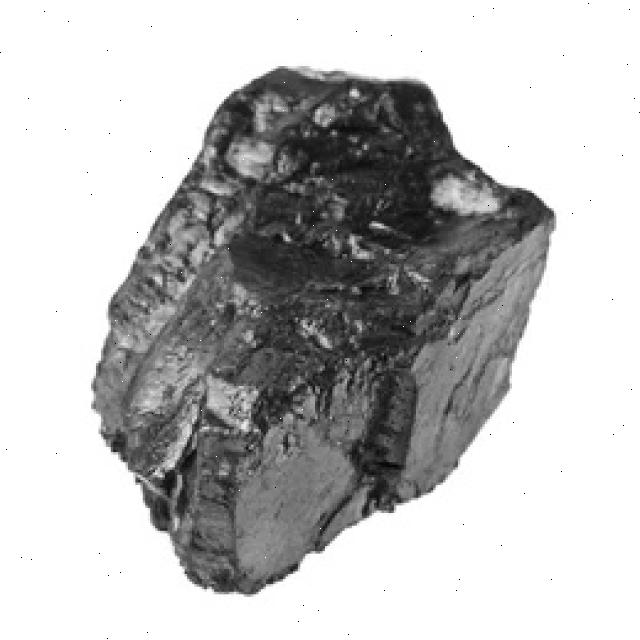Sedimentary: (94, 64, 552, 582)
